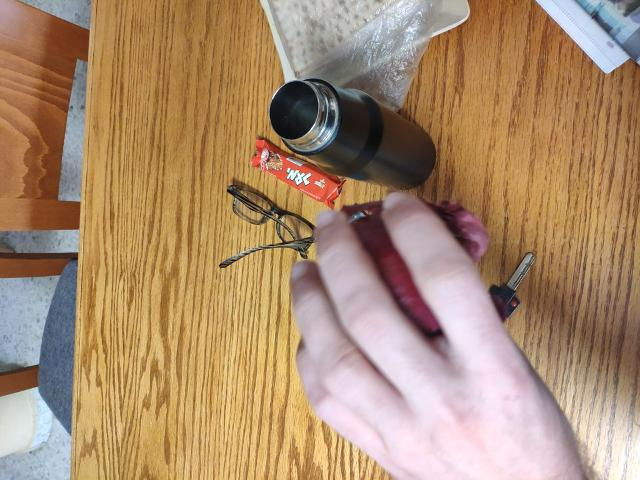onion: (312, 231, 485, 366)
